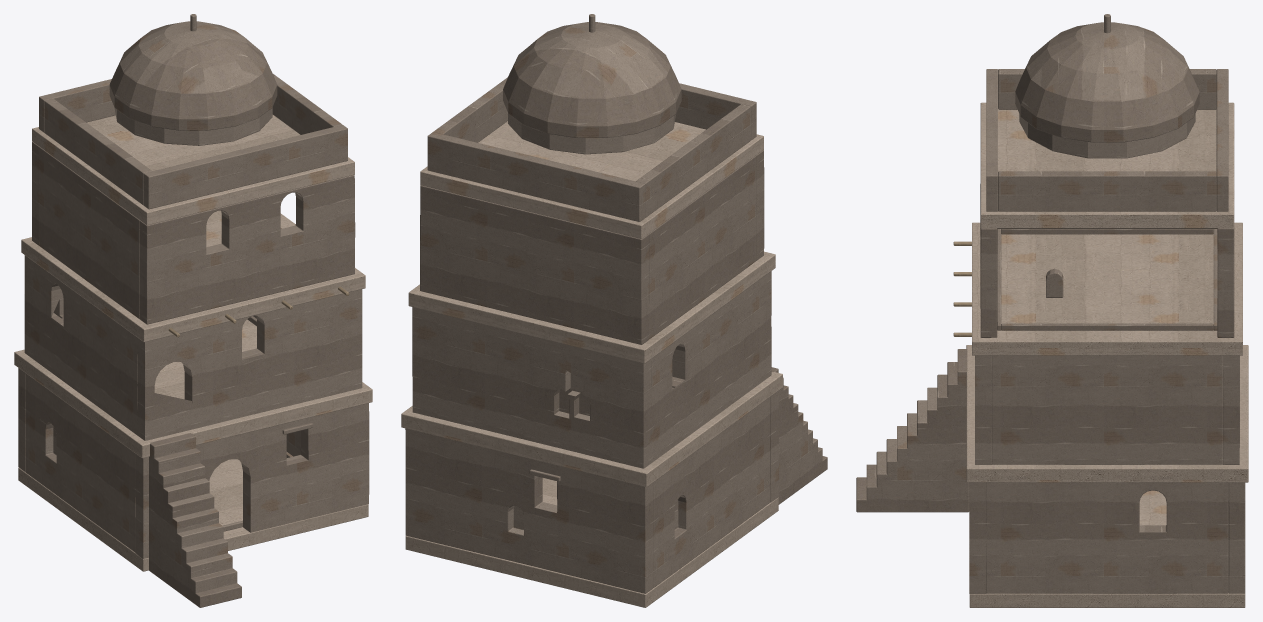
The model's file is tower_16.glb.
3 renders of one model, left to right at view 1: azimuth 30°, elevation 25°; view 2: azimuth 150°, elevation 25°; view 3: azimuth 270°, elevation 25°, orthographic. The views are drawn at different scales.
Visible parts, largest first — view 1: tower; view 2: tower; view 3: tower.
Boxes of the visible parts, x1,y1,x2,y2 form: tower: (14, 14, 372, 607); tower: (401, 14, 827, 607); tower: (856, 14, 1248, 607).
Size of the model in its own units: 7.39 by 14.8 by 9.87.
Materials: 3 (3 with a texture image).
